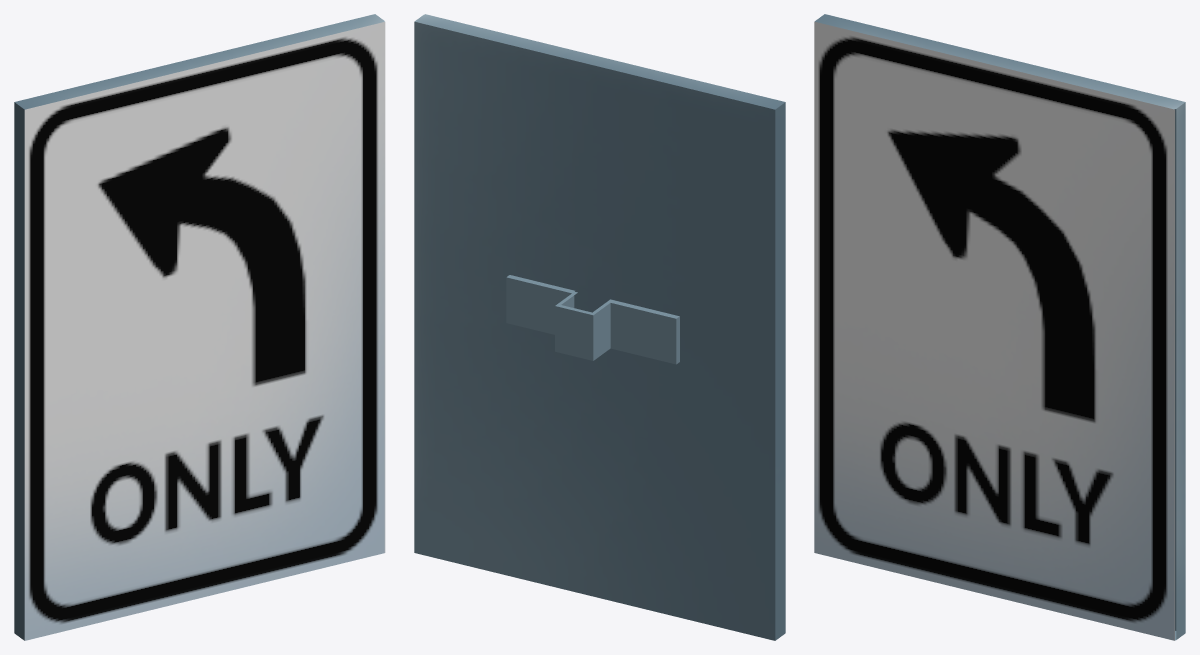
The model's file is Sign69.fbx.
3 renders of one model, left to right at view 1: azimuth 30°, elevation 25°; view 2: azimuth 150°, elevation 25°; view 3: azimuth 330°, elevation 25°, orthographic.
Parts seen in each view (by area): view 1: Sign69; view 2: Sign69; view 3: Sign69.
Part boxes in pixels (x1,y1,x2,y2): Sign69: (14,14,385,640); Sign69: (414,14,785,640); Sign69: (814,14,1185,640).
Bounding box in the file's own units: 1 × 0.1489 × 1.41.
